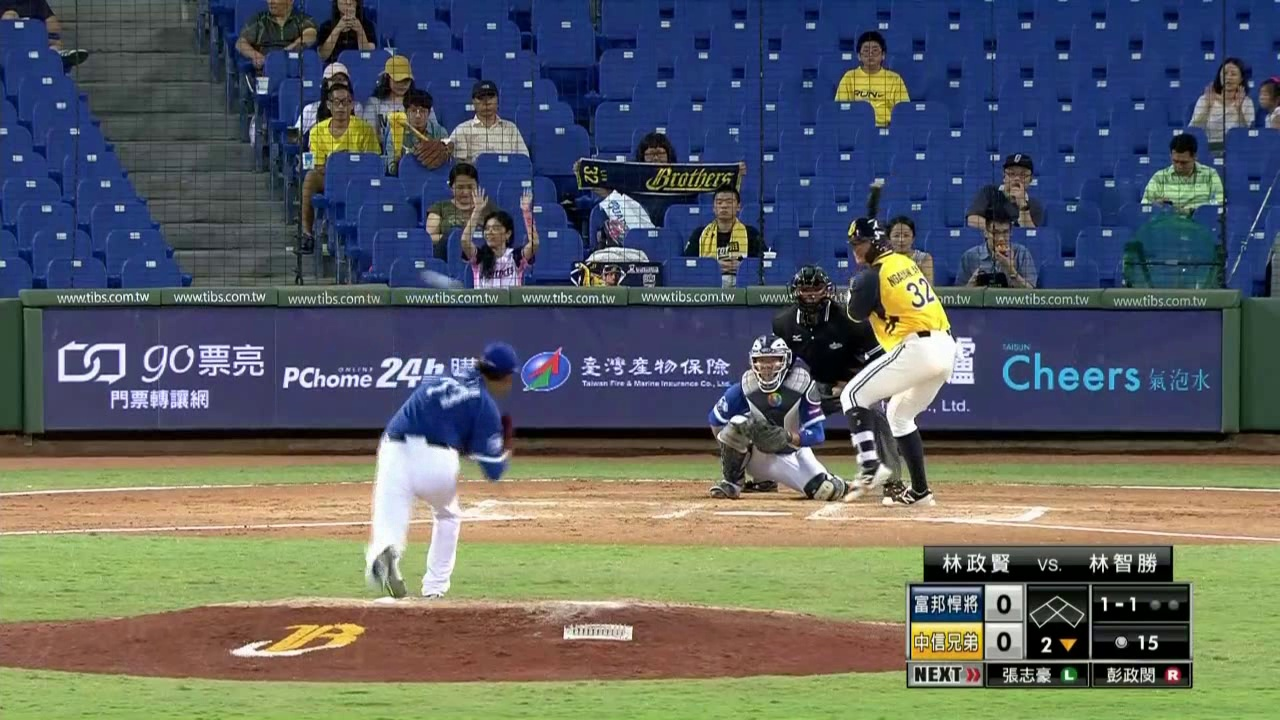ball: (428, 268, 452, 292)
base: (1027, 595, 1088, 628)
bat: (856, 180, 886, 276)
out: (1144, 591, 1186, 615)
score1: (988, 588, 1019, 616)
score2: (986, 626, 1022, 661)
session: (1027, 632, 1089, 658)
strikeball: (1096, 590, 1141, 618)
total: (1091, 629, 1188, 655)
